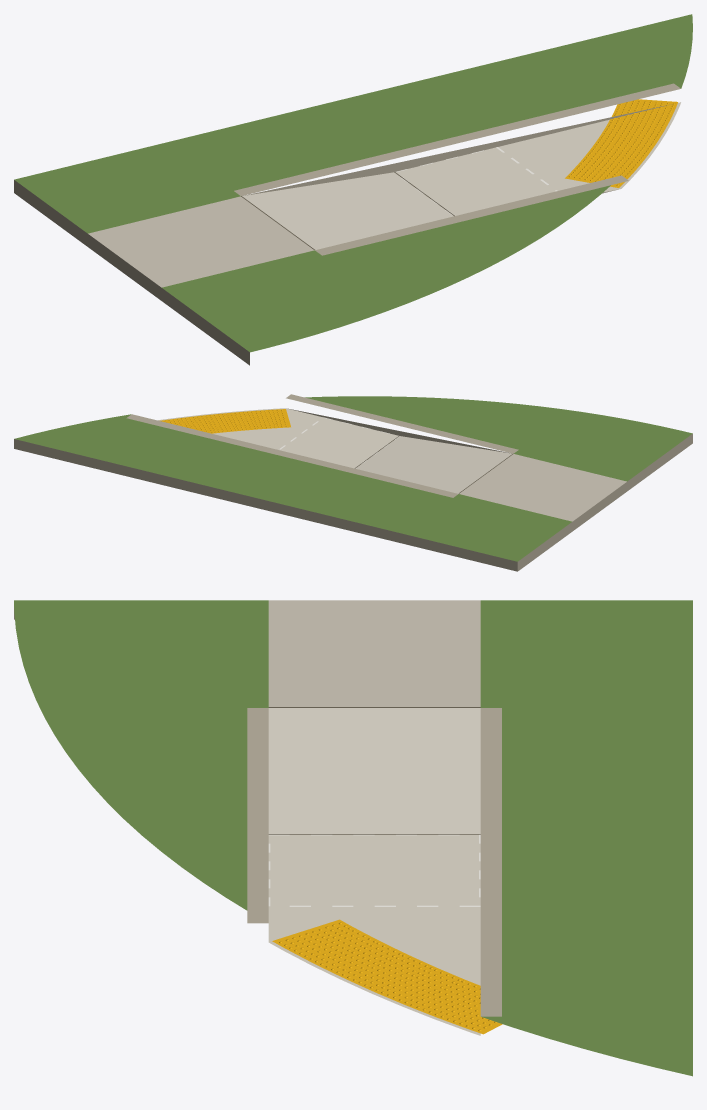
File: ramp-422e-side-curbs.glb
3 views of the same model, one above another, from view 1: azimuth 30°, elevation 25°; view 2: azimuth 150°, elevation 25°; view 3: azimuth 270°, elevation 25° (orthographic). The views are drawn at different scales.
Visible parts, largest first — view 1: Seattle Type 422E: Directional ramp, set back, with side cur; view 2: Seattle Type 422E: Directional ramp, set back, with side cur; view 3: Seattle Type 422E: Directional ramp, set back, with side cur.
Part boxes in pixels (<box>): Seattle Type 422E: Directional ramp, set back, with side cur: <box>14,14,692,365</box>; Seattle Type 422E: Directional ramp, set back, with side cur: <box>14,394,692,571</box>; Seattle Type 422E: Directional ramp, set back, with side cur: <box>14,600,692,1076</box>.
Bounding box in the file's own units: 8.09 × 0.1554 × 4.88.
